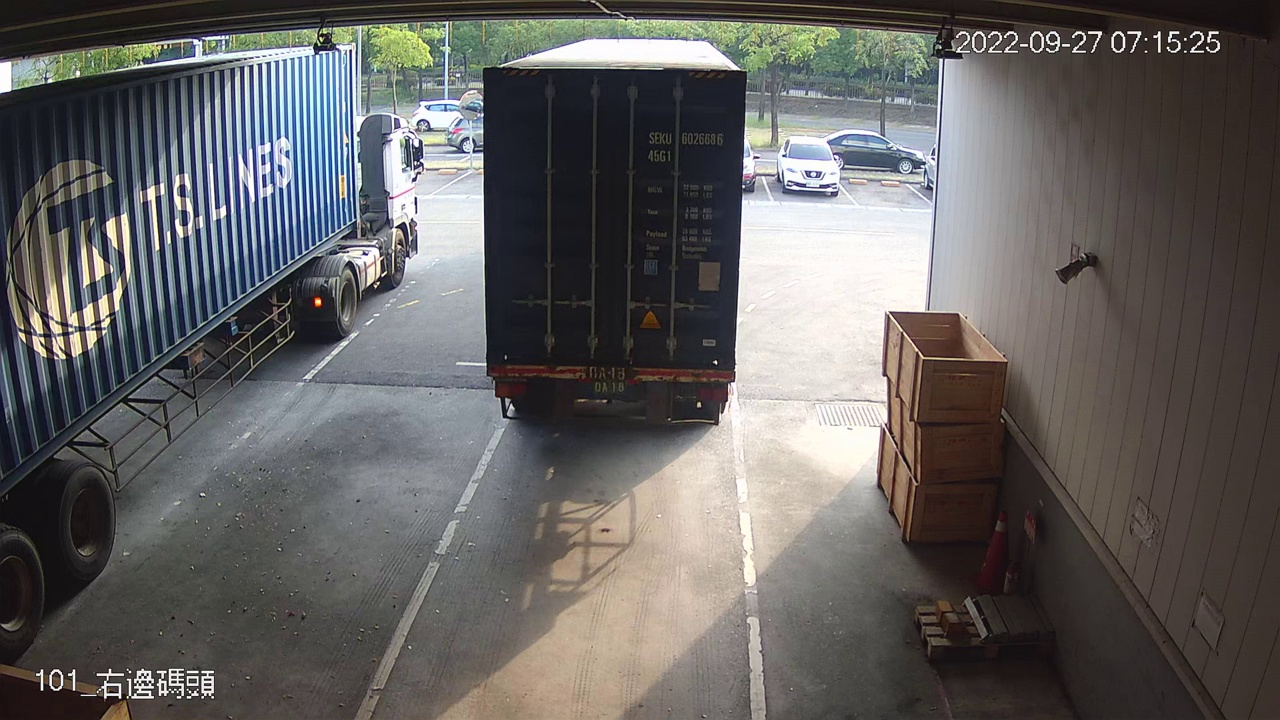container: (642, 124, 730, 170)
